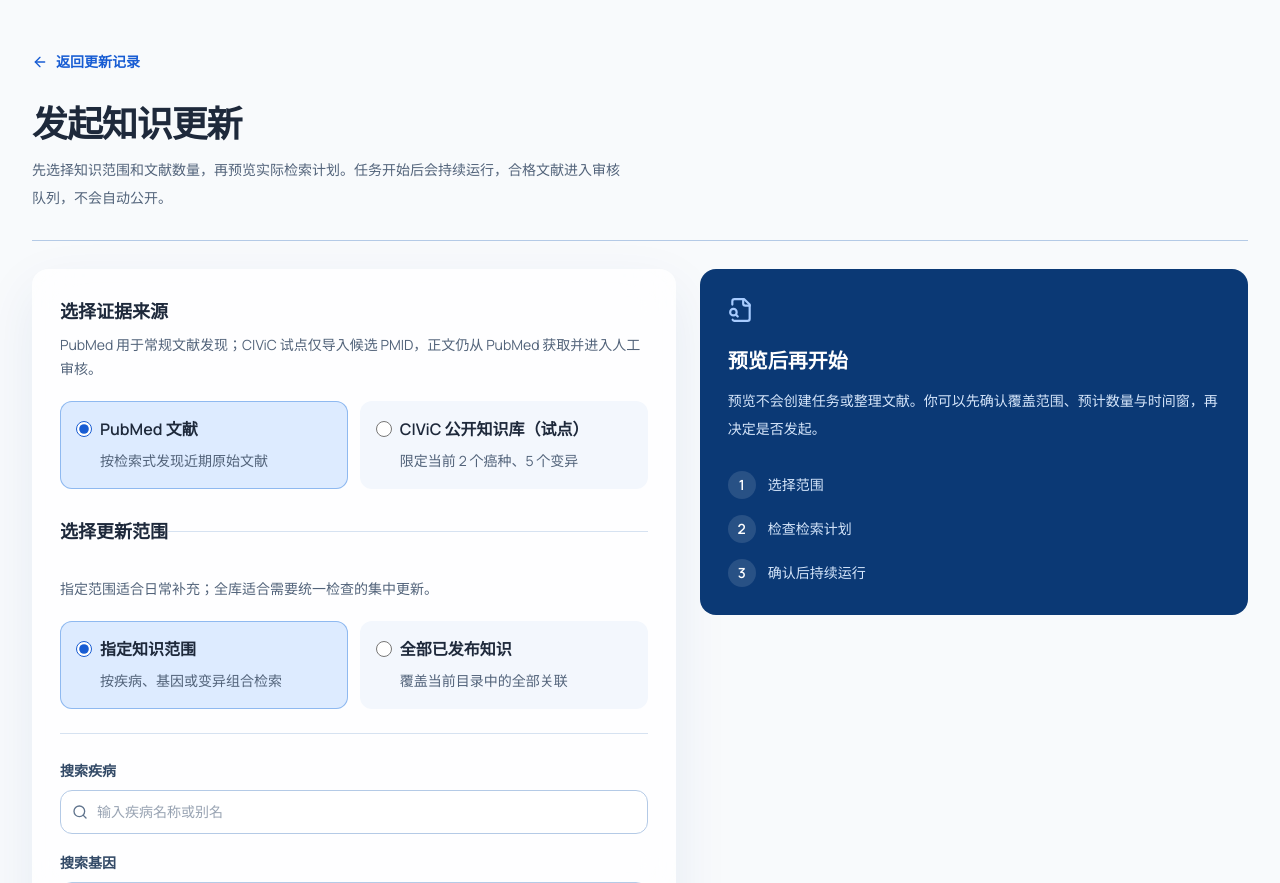
Scenario: Evidex operations frontend › requires a second explicit confirmation before processing all literature
The width and height of the screenshot is (1280, 883).
Click the radio button labelled "全部已发布知识" at [384, 649], box top-left (376, 641), bottom-right (392, 657)
(page scrolled)
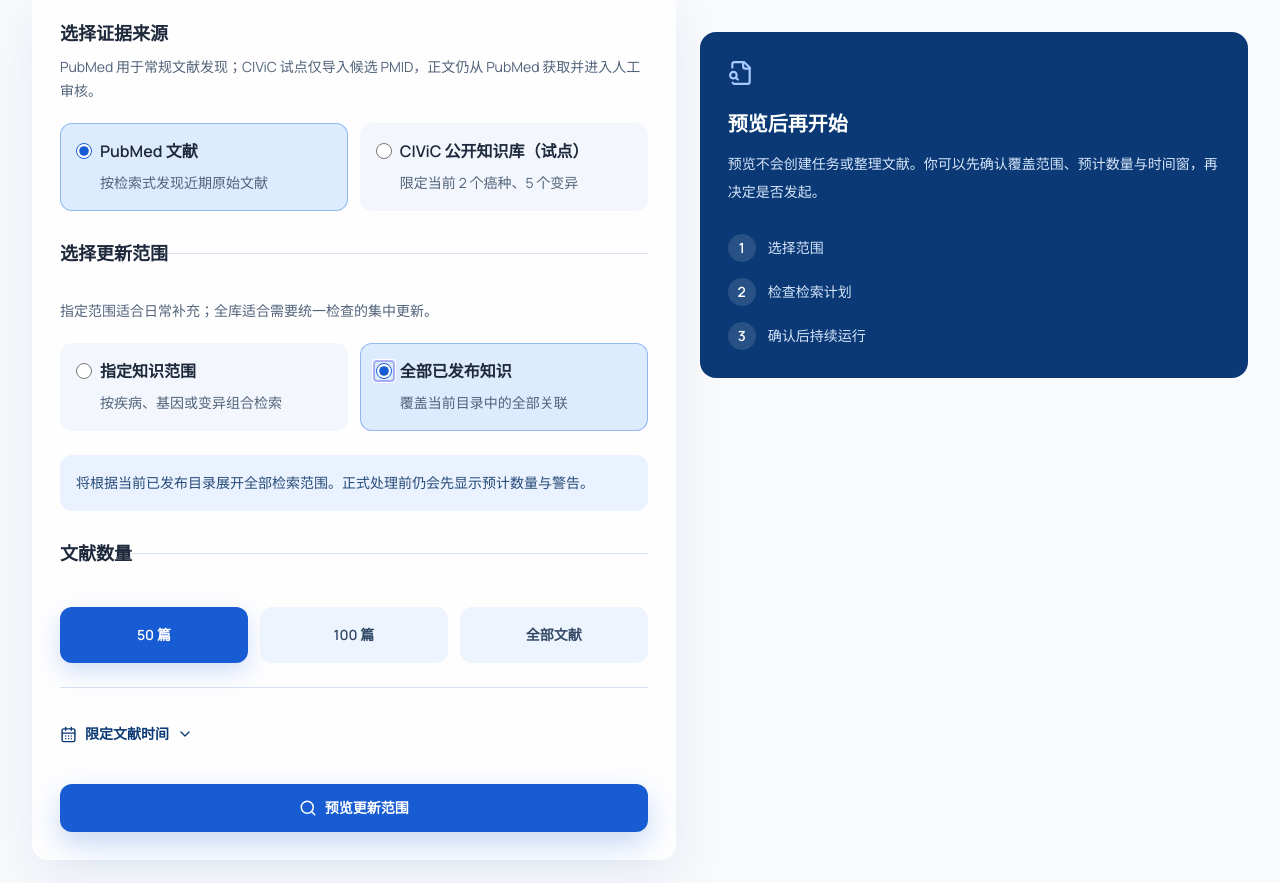
Click the radio button labelled "全部文献" at [554, 635], box top-left (460, 607), bottom-right (648, 663)
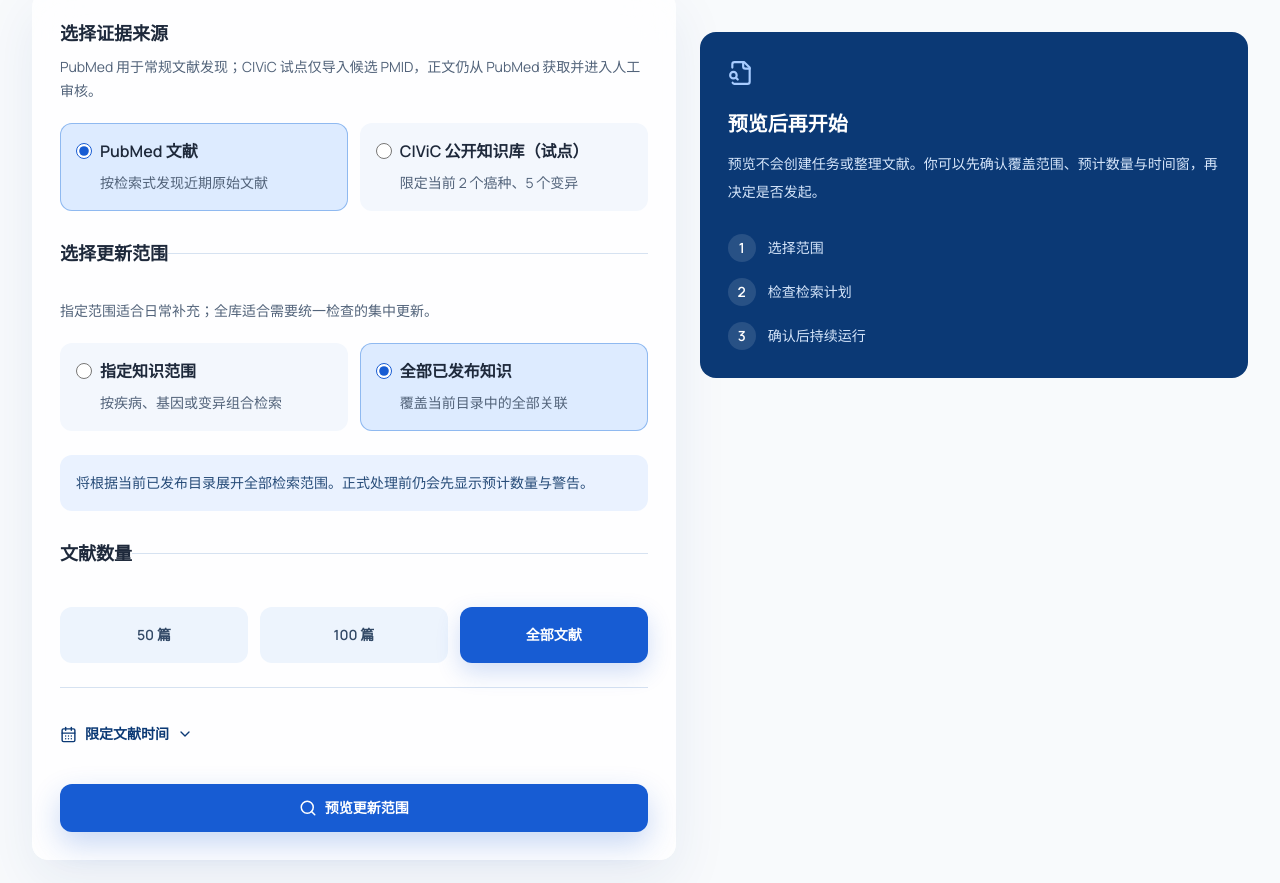
Click the button "预览更新范围" at [354, 808], box top-left (60, 784), bottom-right (648, 832)
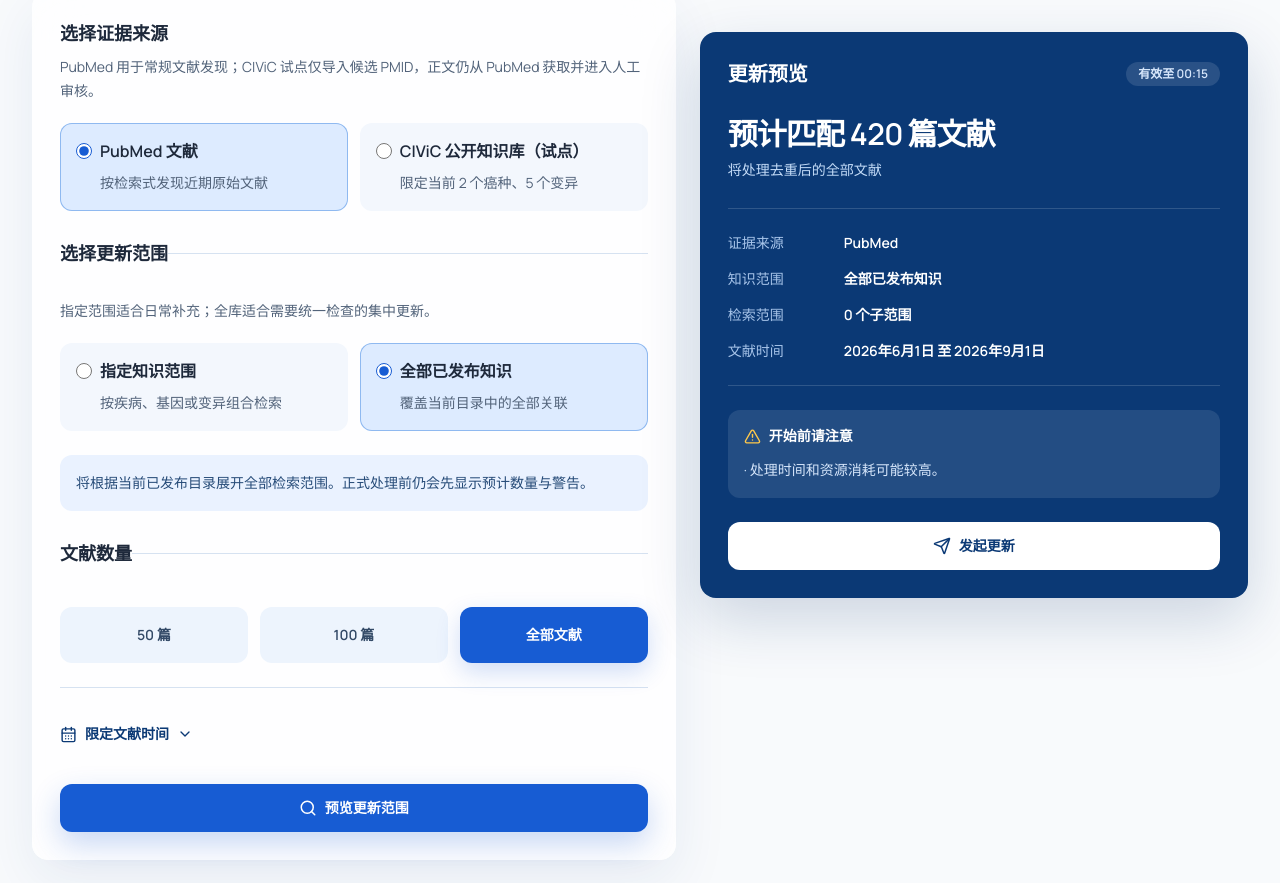
Check: the text "预计匹配 420 篇文献" is shown, box top-left (728, 113), bottom-right (995, 154)
Click the button "发起更新" at [974, 546], box top-left (728, 522), bottom-right (1220, 570)
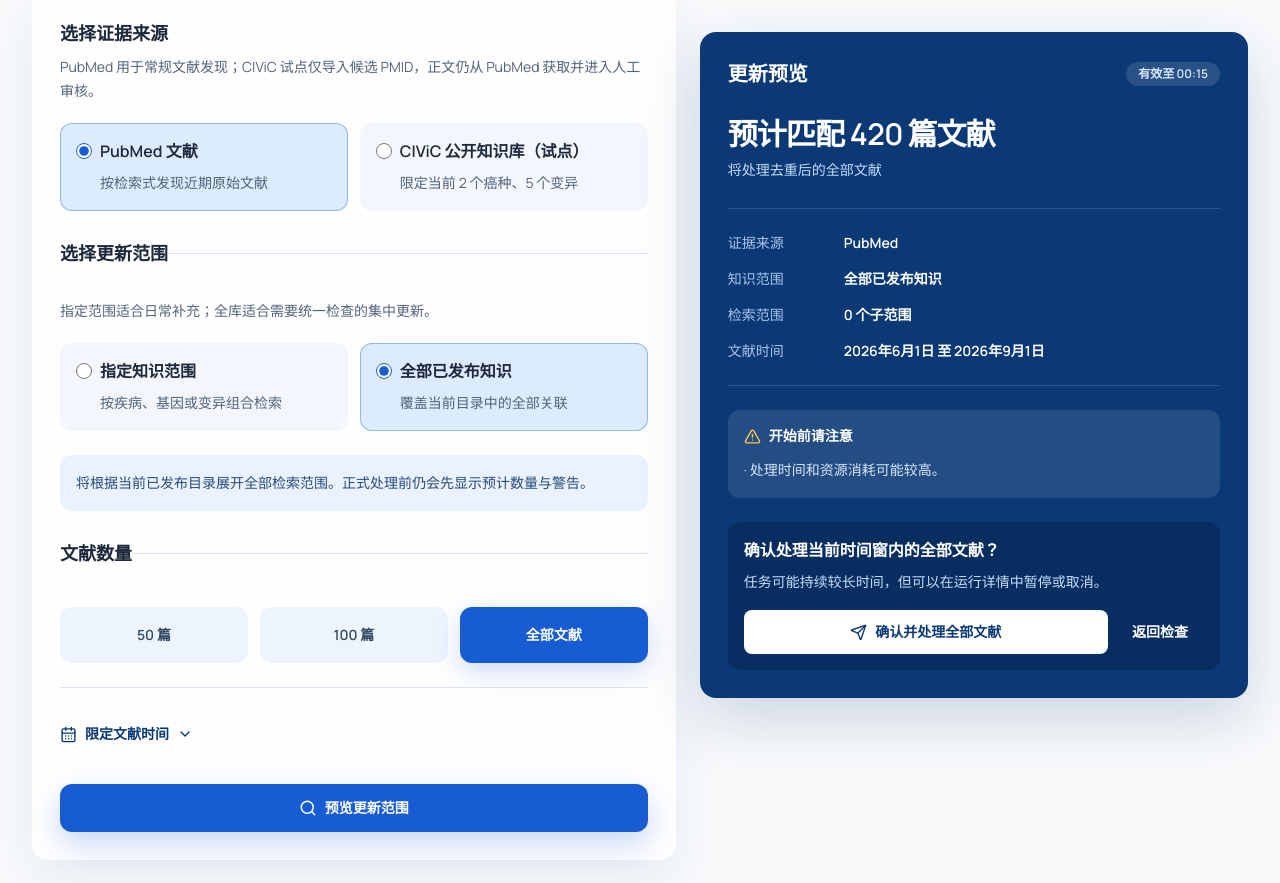
Check: the button "确认并处理全部文献" is shown, box top-left (744, 610), bottom-right (1108, 654)
